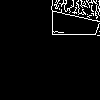Q: (26, 25, 97, 76)
